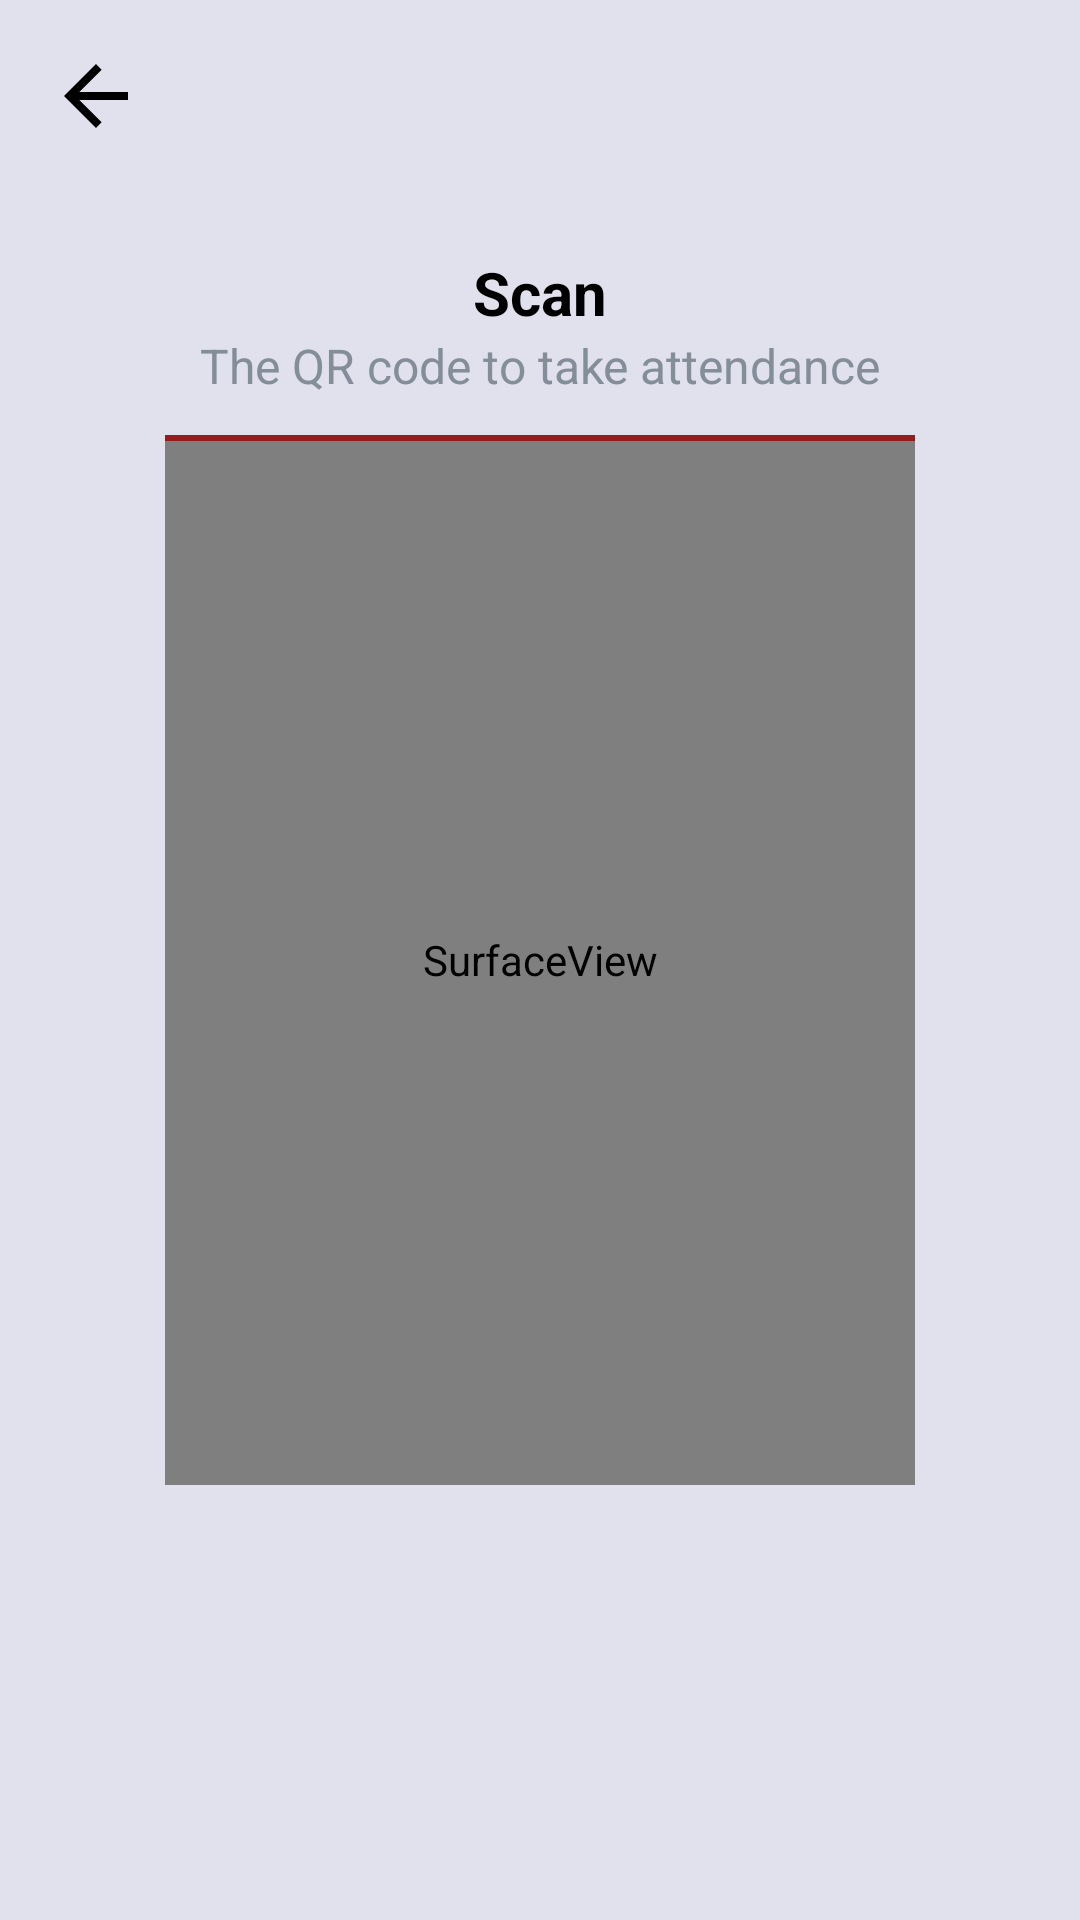

Where icons sit on this 1080*1920 app screen, as (x1,y1,x2,y2):
back: (64,64,128,128)
